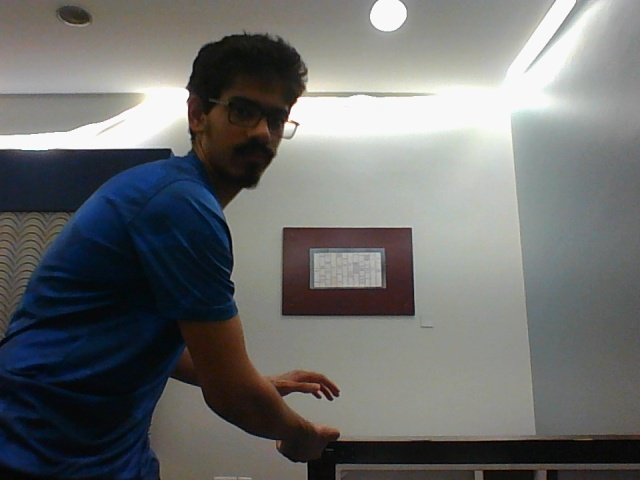charge: (275, 367, 344, 463)
